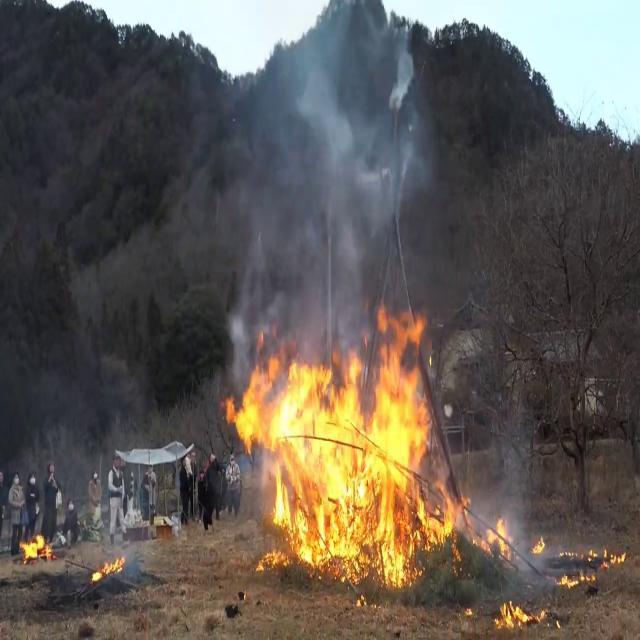Fire: (223, 304, 447, 588), (421, 471, 516, 565), (530, 530, 628, 586), (493, 591, 553, 635), (89, 548, 127, 584), (20, 526, 52, 561)
Smoke: (222, 3, 438, 362)
